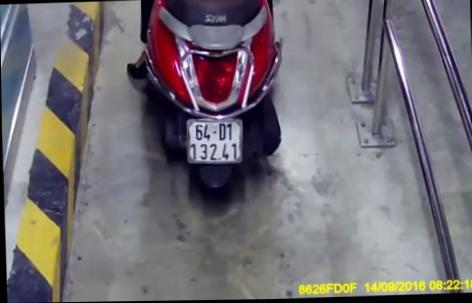LP: (183, 117, 244, 167)
